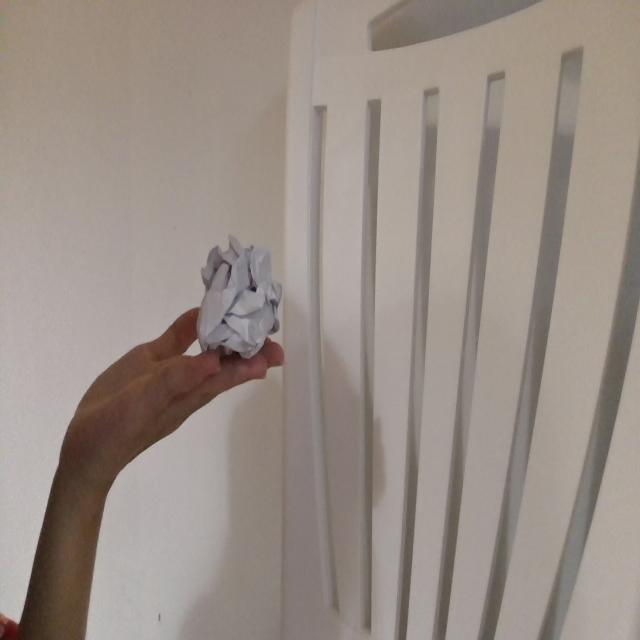crumpled_paper: (197, 226, 284, 361)
